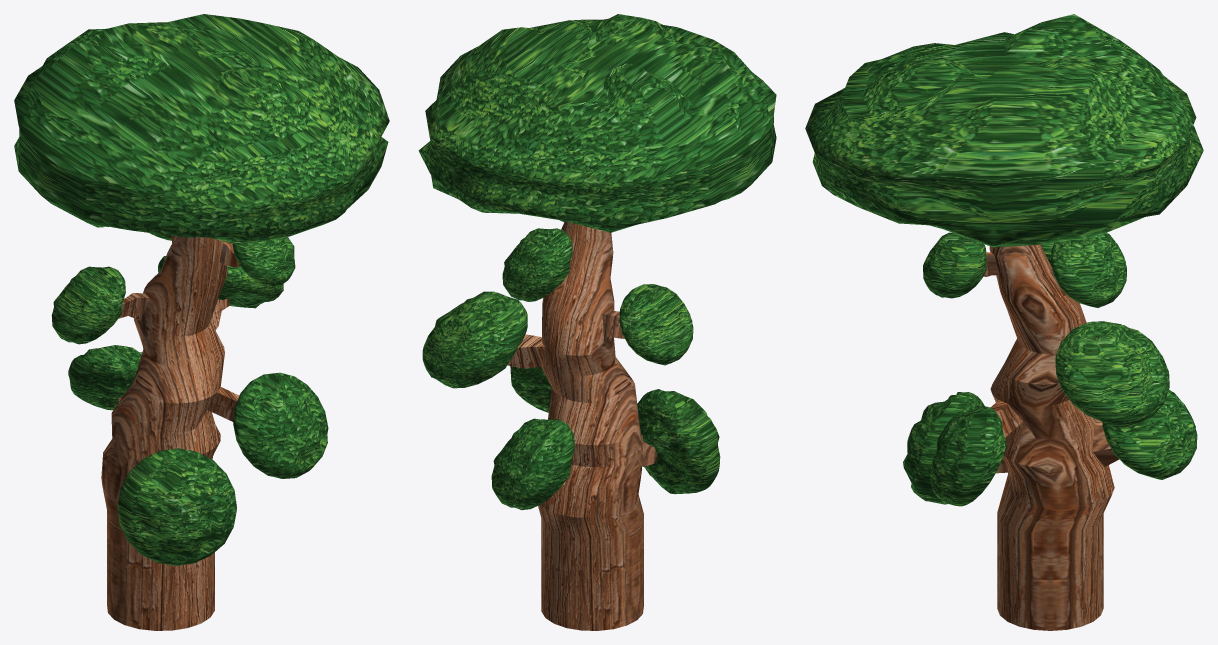
The model's file is tree_1.fbx.
3 renders of one model, left to right at view 1: azimuth 30°, elevation 25°; view 2: azimuth 150°, elevation 25°; view 3: azimuth 270°, elevation 25°, orthographic. The views are drawn at different scales.
Parts seen in each view (by area): view 1: SM_tree1; view 2: SM_tree1; view 3: SM_tree1.
Boxes of the visible parts, x1=… form: SM_tree1: x1=14, y1=14, x2=389, y2=630; SM_tree1: x1=418, y1=14, x2=776, y2=630; SM_tree1: x1=805, y1=14, x2=1203, y2=630.
Size of the model in its own units: 663 by 1166 by 751.
